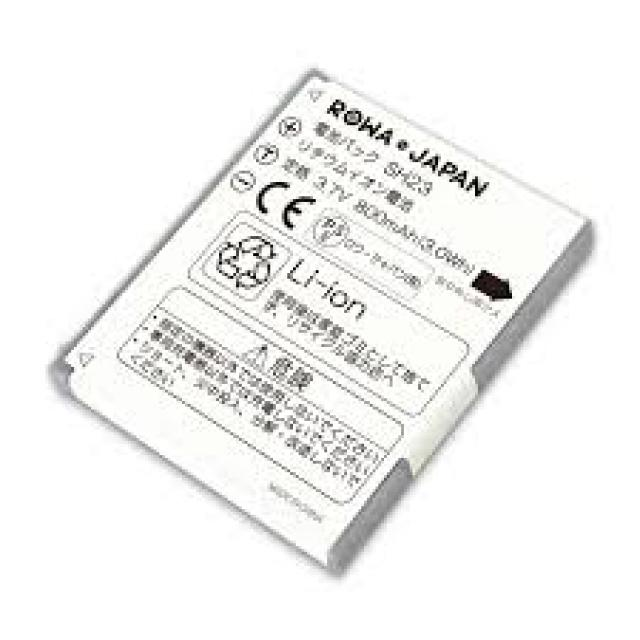non-organic waste: (52, 60, 598, 579)
